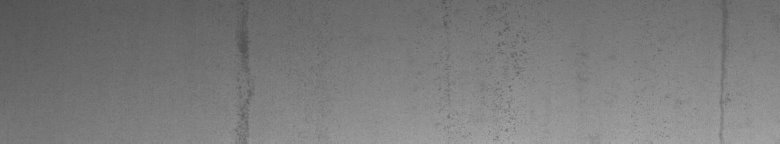ib: (441, 21, 524, 112)
